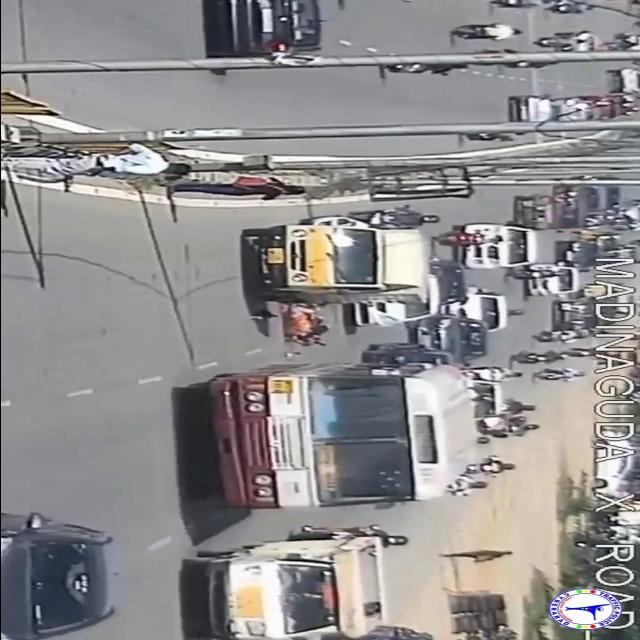accident: (237, 224, 449, 352)
non_accident: (437, 173, 628, 331), (490, 64, 638, 124)
